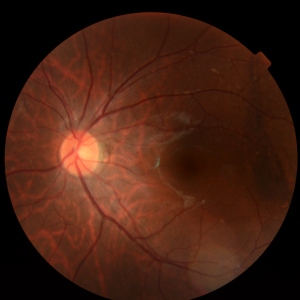retina_disease: (30, 101, 226, 215)
